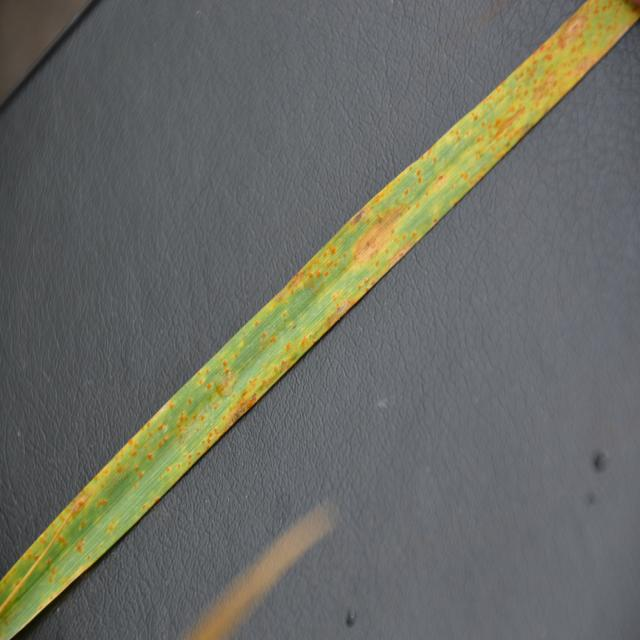wheat-septoria: (0, 0, 640, 640)
